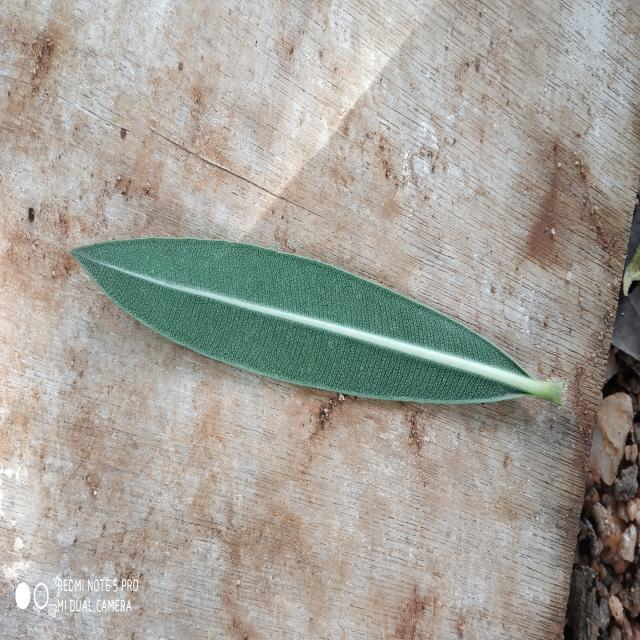ganigale: (71, 238, 562, 407)
